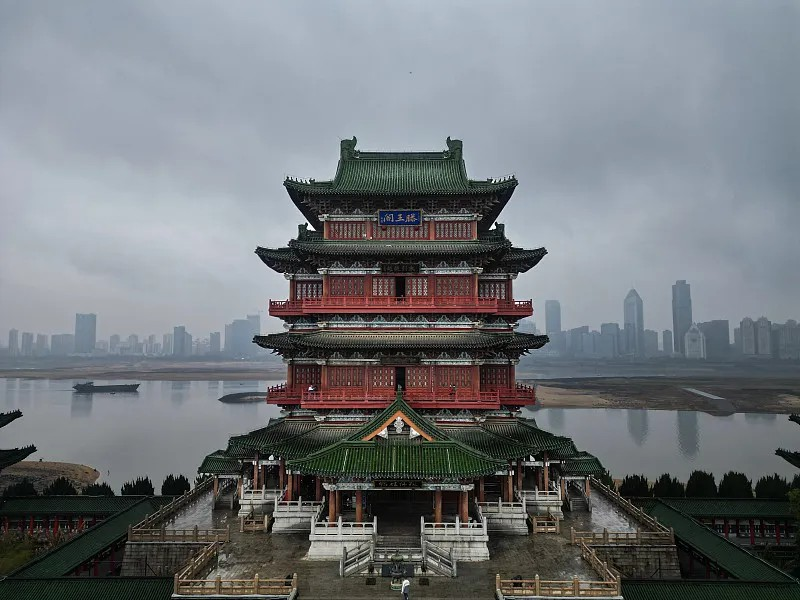Teng: (198, 137, 607, 527)
